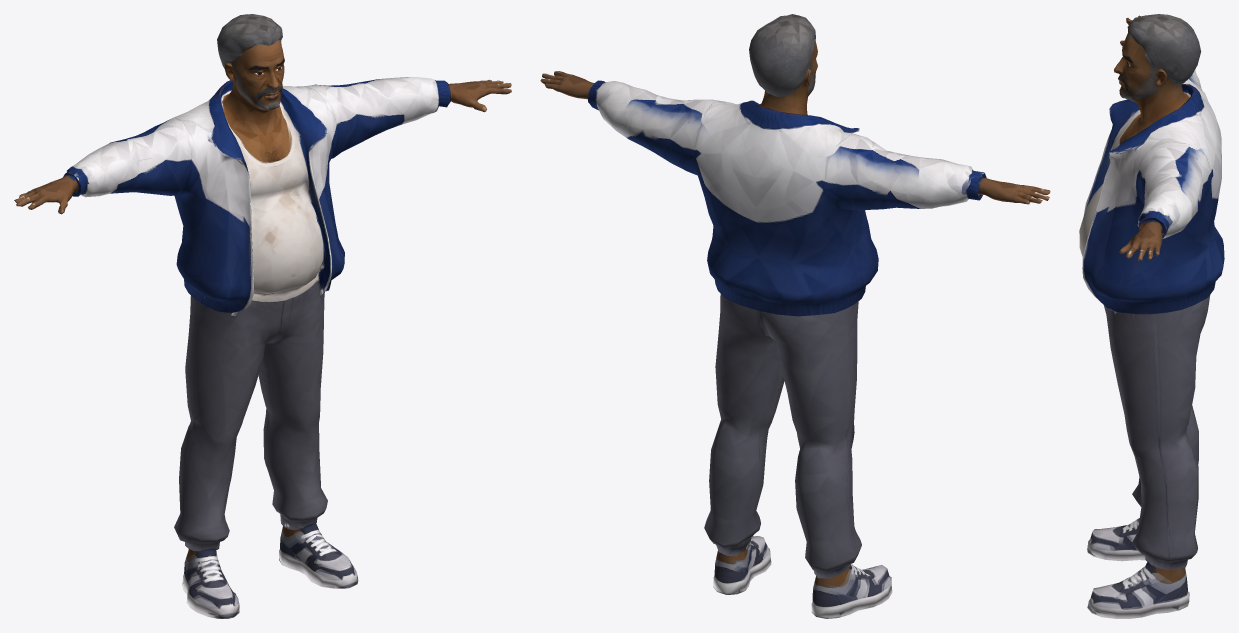
The model's file is robot.glb.
3 renders of one model, left to right at view 1: azimuth 30°, elevation 25°; view 2: azimuth 150°, elevation 25°; view 3: azimuth 270°, elevation 25°, orthographic. The views are drawn at different scales.
Bounding box in the file's own units: 0.9258 × 1 × 0.2339.
Materials: 1 (1 with a texture image).
